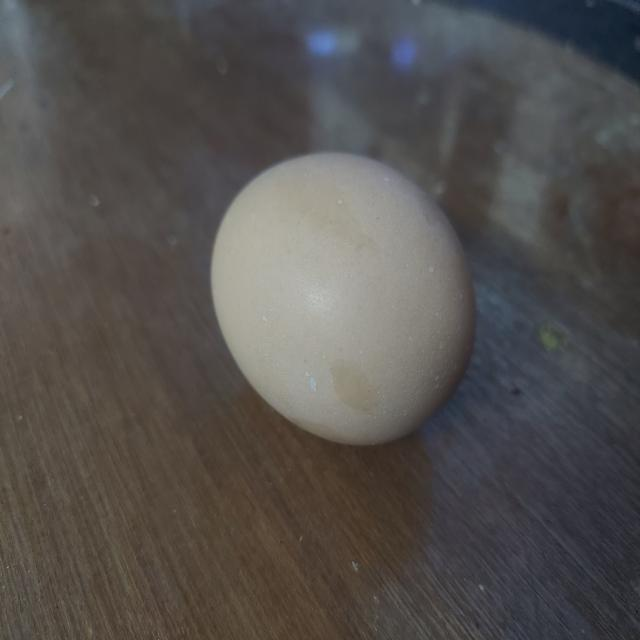egg: (204, 143, 484, 455)
